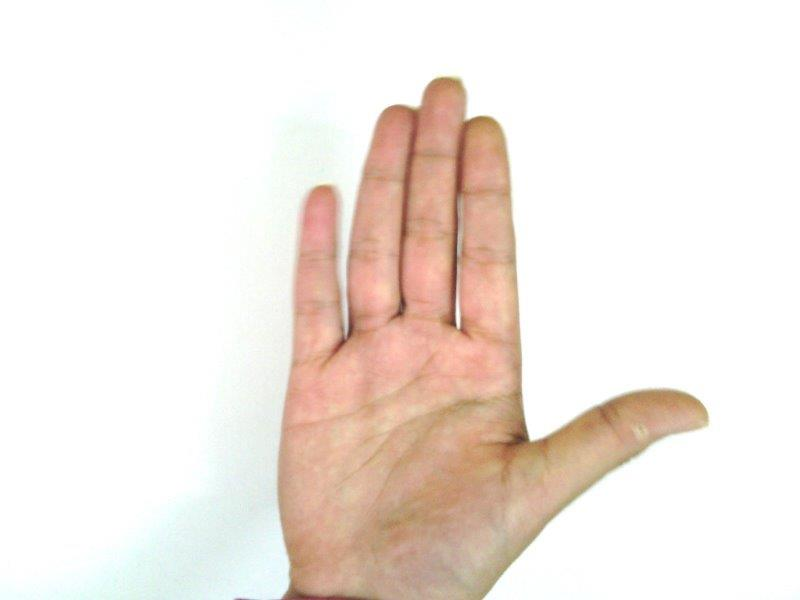hand: (278, 78, 708, 592)
